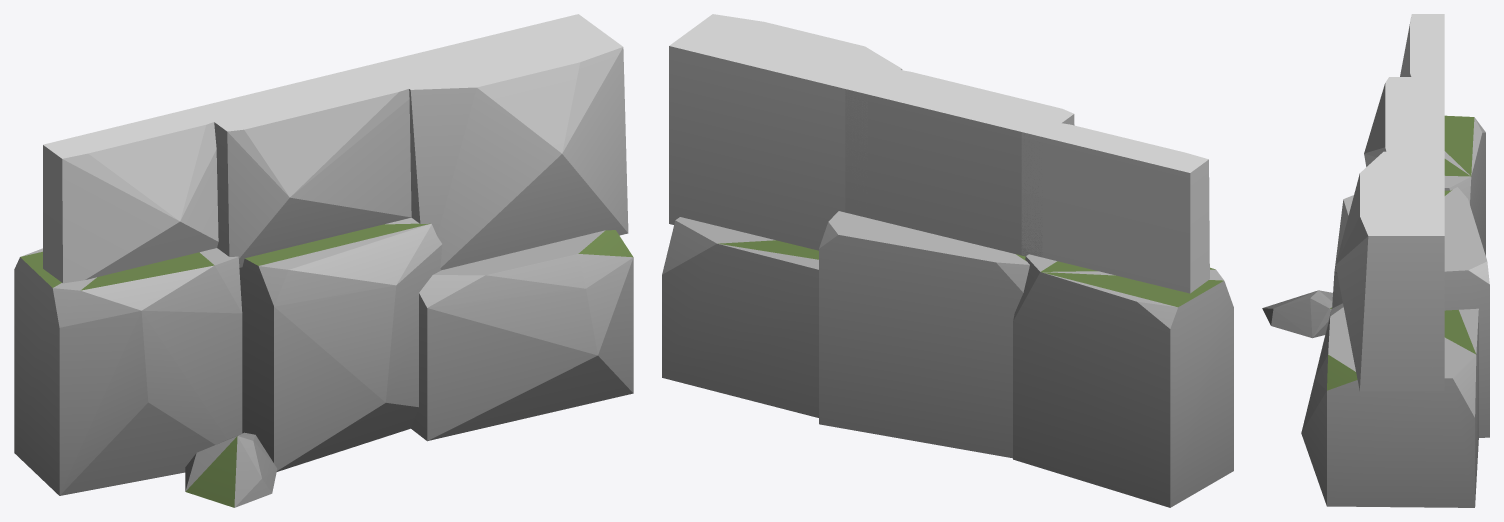
The picture shows the model from 3 angles, left to right: view 1: azimuth 30°, elevation 25°; view 2: azimuth 150°, elevation 25°; view 3: azimuth 270°, elevation 25°; orthographic projection. The views are drawn at different scales.
Visible parts, largest first — view 1: rk_cf2_2; view 2: rk_cf2_2; view 3: rk_cf2_2.
Boxes of the visible parts, x1,y1,x2,y2 form: rk_cf2_2: (14, 14, 633, 507); rk_cf2_2: (662, 14, 1233, 507); rk_cf2_2: (1262, 14, 1489, 507).
Size of the model in its own units: 34.49 by 19.5 by 14.56.
